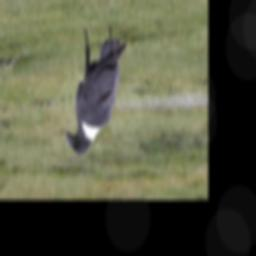Crow: (66, 28, 127, 156)
